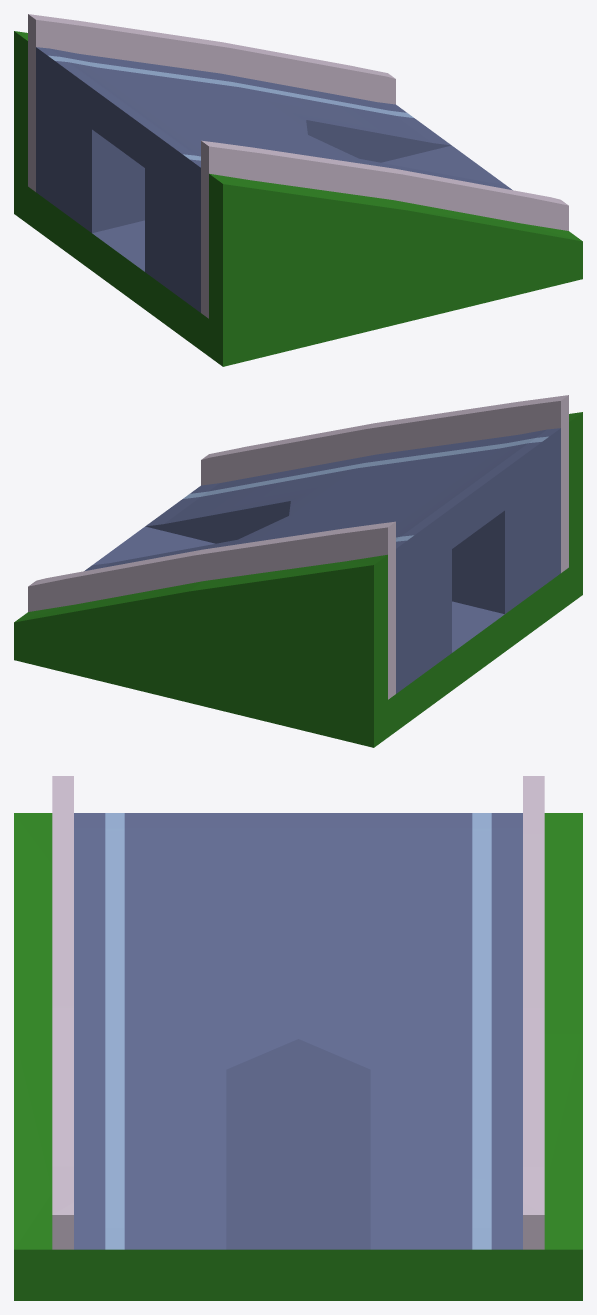
File: Inclined Base Hole.fbx
3 renders of one model, top to bottom at view 1: azimuth 30°, elevation 25°; view 2: azimuth 150°, elevation 25°; view 3: azimuth 270°, elevation 25°, orthographic. The views are drawn at different scales.
Visible parts, largest first — view 1: Object003; view 2: Object003; view 3: Object003.
Part boxes in pixels (box(x1,y1,x2,y2)): Object003: box(14, 14, 582, 366); Object003: box(14, 395, 582, 747); Object003: box(14, 776, 582, 1300).
Bounding box in the file's own units: 50.15 × 27.99 × 50.47.
